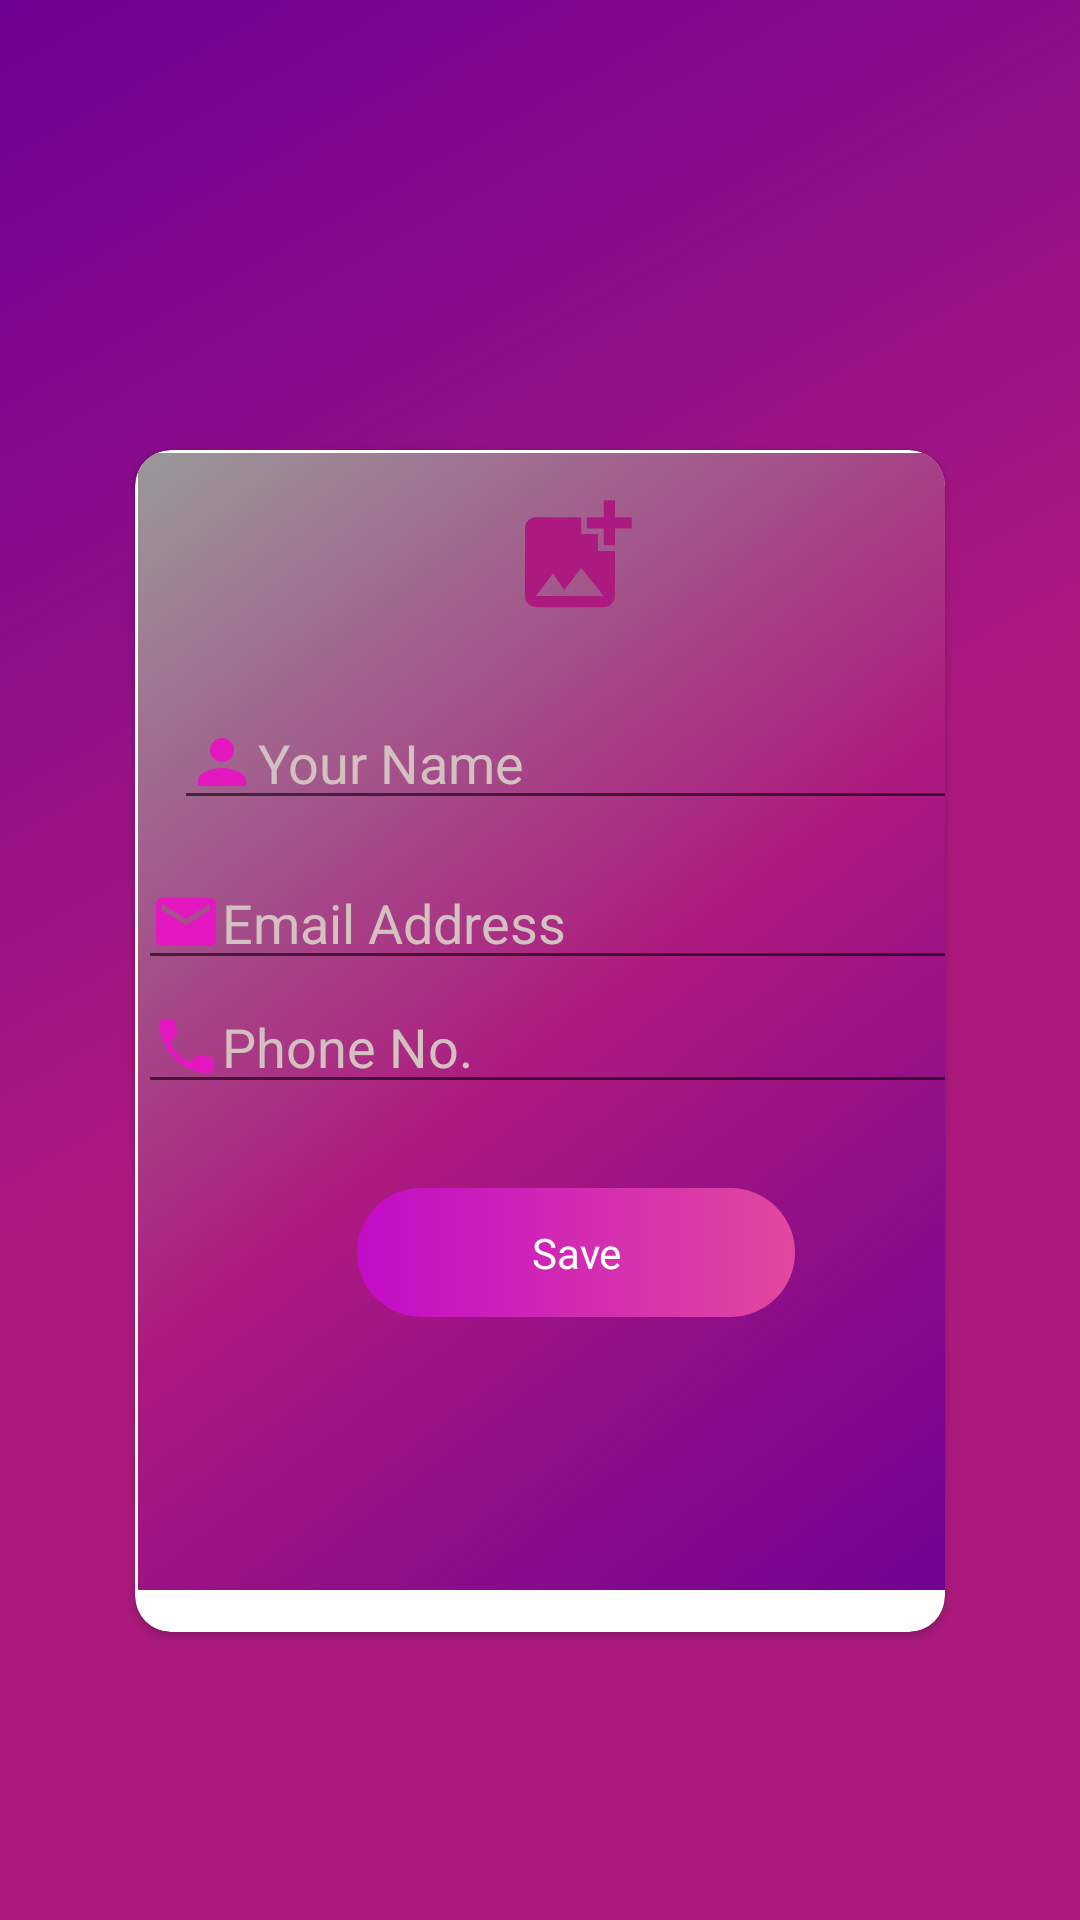

Named icons in this screenshot (1080px×1920px) and their bounding boxes, BBox(x1, y1, x2, y2):
add photo: BBox(525, 500, 632, 607)
